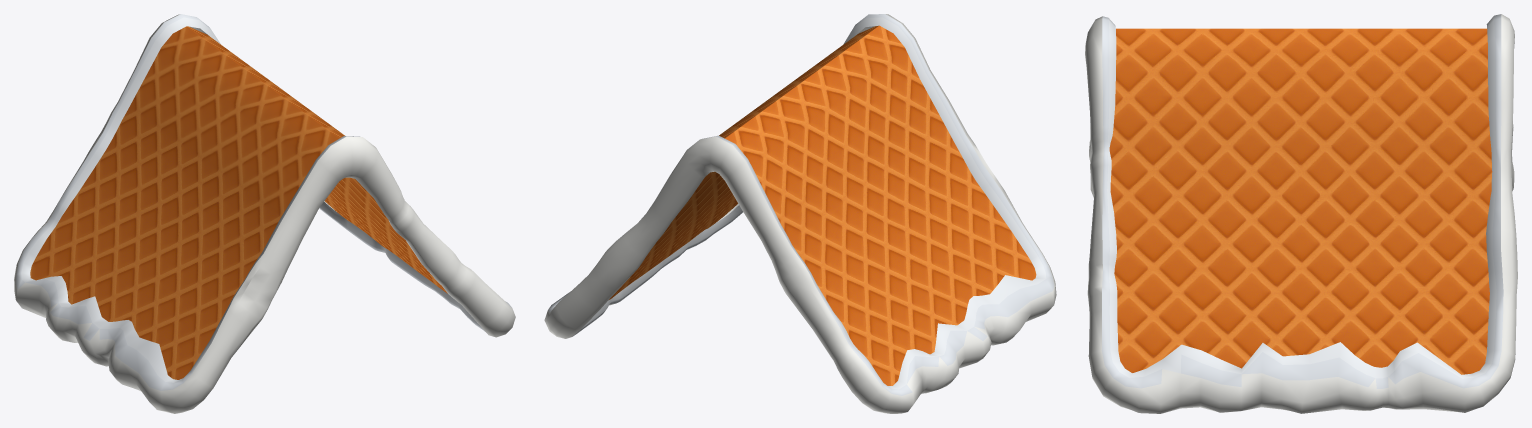
File: telhado_natal_waffle_glace_pacote.glb
3 renders of one model, left to right at view 1: azimuth 30°, elevation 25°; view 2: azimuth 150°, elevation 25°; view 3: azimuth 270°, elevation 25°, orthographic. The views are drawn at different scales.
Parts seen in each view (by area): view 1: colisao_malha; view 2: colisao_malha; view 3: colisao_malha.
Boxes of the visible parts, left/top/right/bottom form: colisao_malha: left=14, top=14, right=515, bottom=413; colisao_malha: left=544, top=14, right=1056, bottom=413; colisao_malha: left=1085, top=14, right=1517, bottom=413.
Size of the model in its own units: 7.21 by 4.66 by 6.15.
Materials: 2 (2 with a texture image).
